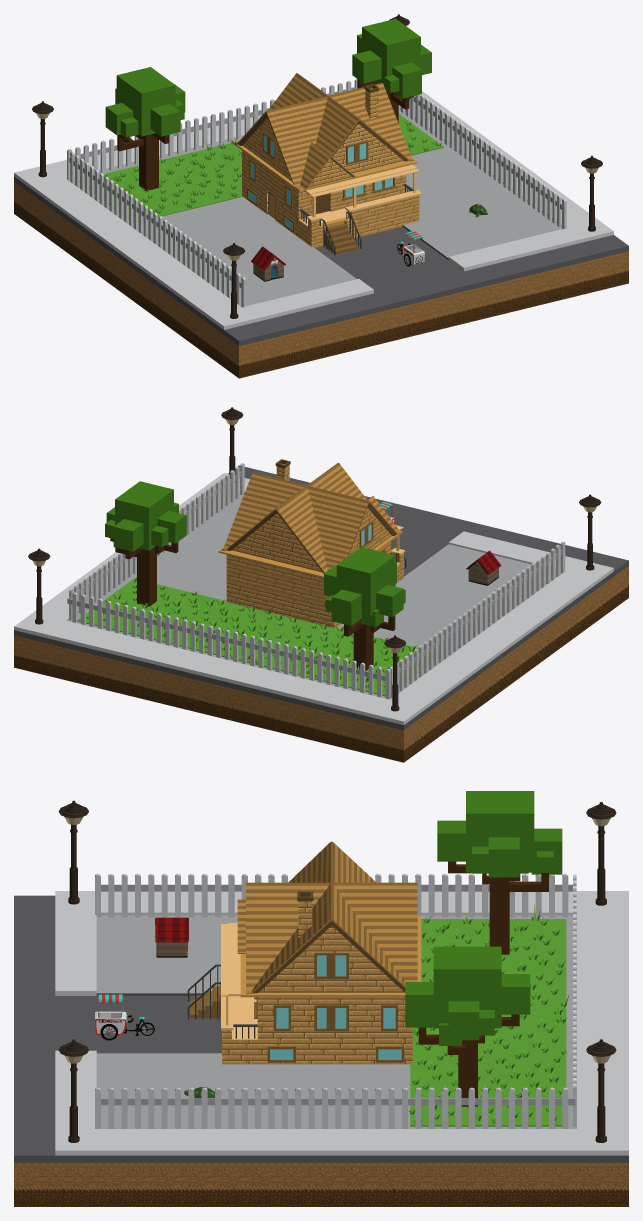
3 renders of one model, top to bottom at view 1: azimuth 30°, elevation 25°; view 2: azimuth 150°, elevation 25°; view 3: azimuth 270°, elevation 25°, orthographic. The views are drawn at different scales.
Parts seen in each view (by area): view 1: Cube.004, Cube.508, OBJRANDOM_DOGHOUSE, VEHICLES_SNOWBAL_BIKE; view 2: Cube.004, Cube.508, OBJRANDOM_DOGHOUSE; view 3: Cube.004, Cube.508, VEHICLES_SNOWBAL_BIKE, OBJRANDOM_DOGHOUSE.
Part boxes in pixels (bbox=[...]): Cube.004: bbox=[14, 14, 628, 378]; Cube.508: bbox=[233, 73, 422, 255]; OBJRANDOM_DOGHOUSE: bbox=[251, 246, 285, 281]; VEHICLES_SNOWBAL_BIKE: bbox=[396, 230, 425, 266]; Cube.004: bbox=[14, 407, 628, 762]; Cube.508: bbox=[218, 459, 406, 627]; OBJRANDOM_DOGHOUSE: bbox=[466, 550, 501, 585]; Cube.004: bbox=[14, 791, 628, 1206]; Cube.508: bbox=[187, 841, 421, 1064]; VEHICLES_SNOWBAL_BIKE: bbox=[94, 994, 154, 1040]; OBJRANDOM_DOGHOUSE: bbox=[155, 917, 188, 957].
Bounding box in the file's own units: 4000 × 1617 × 4000.
Materials: 40 (4 with a texture image).
